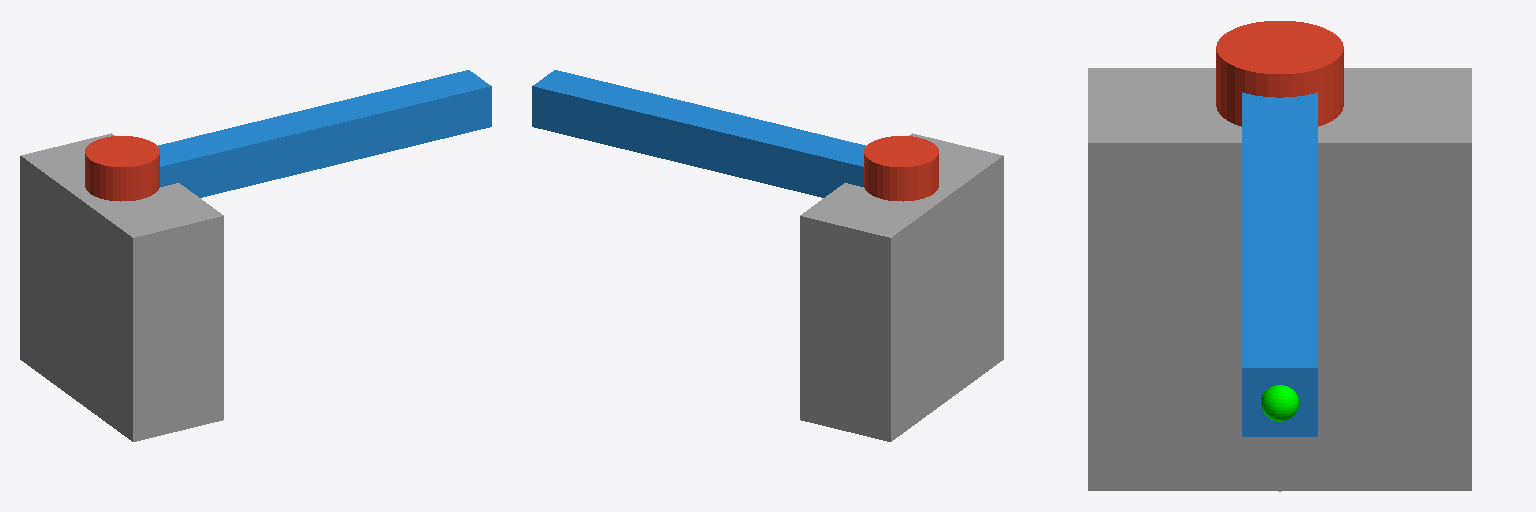
robot.urdf — three_r_arm:
<?xml version="1.0"?>
<robot name="three_r_arm">

  <!-- 材质定义 -->
  <material name="base_material">
    <color rgba="0.7 0.7 0.7 1.0"/>  <!-- 灰色 -->
  </material>
  <material name="link_material">
    <color rgba="0.2 0.6 0.9 1.0"/>  <!-- 蓝色 -->
  </material>
  <material name="joint_material">
    <color rgba="0.9 0.3 0.2 1.0"/>  <!-- 红色 -->
  </material>
  <material name="end_material">
    <color rgba="0.0 1.0 0.0 1.0"/>  <!-- 绿色末端 -->
  </material>

  <!-- base_link：固定于地面，原点为基座正面中线和地面的交点 (0,0,0) -->
  <link name="base_link">
    <visual>
      <geometry>
        <box size="0.001 0.001 0.001"/>
      </geometry>
      <material name="base_material"/>
    </visual>
  </link>

  <!-- 基座本体（固定不动的长方体）：长140mm，宽300mm，高300mm -->
  <link name="base_fixed_link">
    <visual>
      <geometry>
        <box size="0.14 0.30 0.30"/>   <!-- 长140mm, 宽300mm, 高300mm -->
      </geometry>
      <origin xyz="-0.07 0 0.15" rpy="0 0 0"/>  <!-- 基座中心：x=-70mm, y=0, z=150mm -->
      <material name="base_material"/>
    </visual>
    <collision>
      <geometry>
        <box size="0.14 0.30 0.30"/>
      </geometry>
      <origin xyz="-0.07 0 0.15"/>
    </collision>
    <inertial>
      <mass value="5.0"/>
      <origin xyz="-0.07 0 0.15"/>
      <inertia ixx="0.05" ixy="0.0" ixz="0.0" iyy="0.05" iyz="0.0" izz="0.05"/>
    </inertial>
  </link>

  <!-- 固定关节：将基座本体固定到base_link -->
  <joint name="base_fixed_joint" type="fixed">
    <parent link="base_link"/>
    <child link="base_fixed_link"/>
    <origin xyz="0 0 0" rpy="0 0 0"/>
  </joint>

  <!-- 关节1：腰转，绕Z轴，范围 -π ~ π -->
  <link name="link1">
    <visual>
      <geometry>
        <cylinder radius="0.05" length="0.05"/>
      </geometry>
      <origin xyz="0 0 0.025"/>
      <material name="joint_material"/>
    </visual>
    <collision>
      <geometry>
        <cylinder radius="0.05" length="0.05"/>
      </geometry>
      <origin xyz="0 0 0.025"/>
    </collision>
    <inertial>
      <mass value="0.5"/>
      <origin xyz="0 0 0.025"/>
      <inertia ixx="0.001" ixy="0.0" ixz="0.0" iyy="0.001" iyz="0.0" izz="0.001"/>
    </inertial>
  </link>

  <joint name="joint1" type="revolute">
    <parent link="base_fixed_link"/>
    <child link="link1"/>
    <origin xyz="-0.07 0 0.30" rpy="0 0 0"/>   <!-- 基座顶面中心 (-70,0,300) -->
    <axis xyz="0 0 1"/>
    <limit lower="-3.14159" upper="3.14159" effort="100.0" velocity="1.0"/>
    <dynamics damping="0.1" friction="0.0"/>
  </joint>

  <!-- 上臂连杆（link2）：长度275mm -->
  <link name="link2">
    <visual>
      <geometry>
        <box size="0.275 0.06 0.06"/>   <!-- 长275mm，宽60mm，高60mm -->
      </geometry>
      <origin xyz="0.1375 0 0"/>        <!-- 中心位于连杆中点 -->
      <material name="link_material"/>
    </visual>
    <collision>
      <geometry>
        <box size="0.275 0.06 0.06"/>
      </geometry>
      <origin xyz="0.1375 0 0"/>
    </collision>
    <inertial>
      <mass value="1.0"/>
      <origin xyz="0.1375 0 0"/>
      <inertia ixx="0.01" ixy="0.0" ixz="0.0" iyy="0.01" iyz="0.0" izz="0.001"/>
    </inertial>
  </link>

  <!-- 关节2：肩俯仰，绕Y轴，范围 -π ~ π -->
  <joint name="joint2" type="revolute">
    <parent link="link1"/>
    <child link="link2"/>
    <origin xyz="0 0 0" rpy="0 0 0"/>
    <axis xyz="0 1 0"/>
    <limit lower="-3.14159" upper="3.14159" effort="100.0" velocity="1.0"/>
    <dynamics damping="0.1" friction="0.0"/>
  </joint>

  <!-- 前臂连杆（link3）：长度275mm，末端直接作为工具点 -->
  <link name="link3">
    <visual>
      <!-- 主体：连杆 -->
      <geometry>
        <box size="0.275 0.06 0.06"/>
      </geometry>
      <origin xyz="0.1375 0 0"/>
      <material name="link_material"/>
    </visual>
    <!-- 末端视觉标记：小球体，位于连杆末端 -->
    <visual>
      <geometry>
        <sphere radius="0.015"/>
      </geometry>
      <origin xyz="0.275 0 0"/>
      <material name="end_material"/>
    </visual>
    <collision>
      <geometry>
        <box size="0.275 0.06 0.06"/>
      </geometry>
      <origin xyz="0.1375 0 0"/>
    </collision>
    <inertial>
      <mass value="0.8"/>
      <origin xyz="0.1375 0 0"/>
      <inertia ixx="0.008" ixy="0.0" ixz="0.0" iyy="0.008" iyz="0.0" izz="0.0008"/>
    </inertial>
  </link>

  <!-- 关节3：肘俯仰，绕Y轴，范围 -π ~ π -->
  <joint name="joint3" type="revolute">
    <parent link="link2"/>
    <child link="link3"/>
    <origin xyz="0.275 0 0" rpy="0 0 0"/>   <!-- 上臂末端 (275mm,0,0) -->
    <axis xyz="0 1 0"/>
    <limit lower="-3.14159" upper="3.14159" effort="100.0" velocity="1.0"/>
    <dynamics damping="0.1" friction="0.0"/>
  </joint>

</robot>

--- What the picture shows (computed from the rendered views, not written in the file) ---
The picture shows the robot from 3 angles, left to right: view 1: azimuth 30°, elevation 25°; view 2: azimuth 150°, elevation 25°; view 3: azimuth 270°, elevation 25°; orthographic projection.
Model three_r_arm with 5 links and 4 joints (3 revolute, 1 fixed), rooted at base_link, posed all joints at 0.
Visible links, largest first — view 1: base_fixed_link, link3, link2, link1; view 2: base_fixed_link, link3, link2, link1; view 3: base_fixed_link, link3, link1, link2.
Link boxes in pixels (x1,y1,x2,y2): base_fixed_link: [20, 133, 223, 441]; link3: [290, 70, 491, 169]; link2: [158, 113, 312, 197]; link1: [85, 136, 159, 201]; base_fixed_link: [800, 133, 1003, 441]; link3: [532, 70, 733, 169]; link2: [711, 113, 865, 197]; link1: [864, 136, 938, 201]; base_fixed_link: [1088, 68, 1471, 490]; link3: [1242, 219, 1317, 436]; link1: [1216, 21, 1343, 126]; link2: [1242, 92, 1317, 218].
Size in the robot's own frame: 0.635 by 0.3 by 0.3505 metres.
Geometry: primitives only (box / cylinder / sphere), no mesh files.
